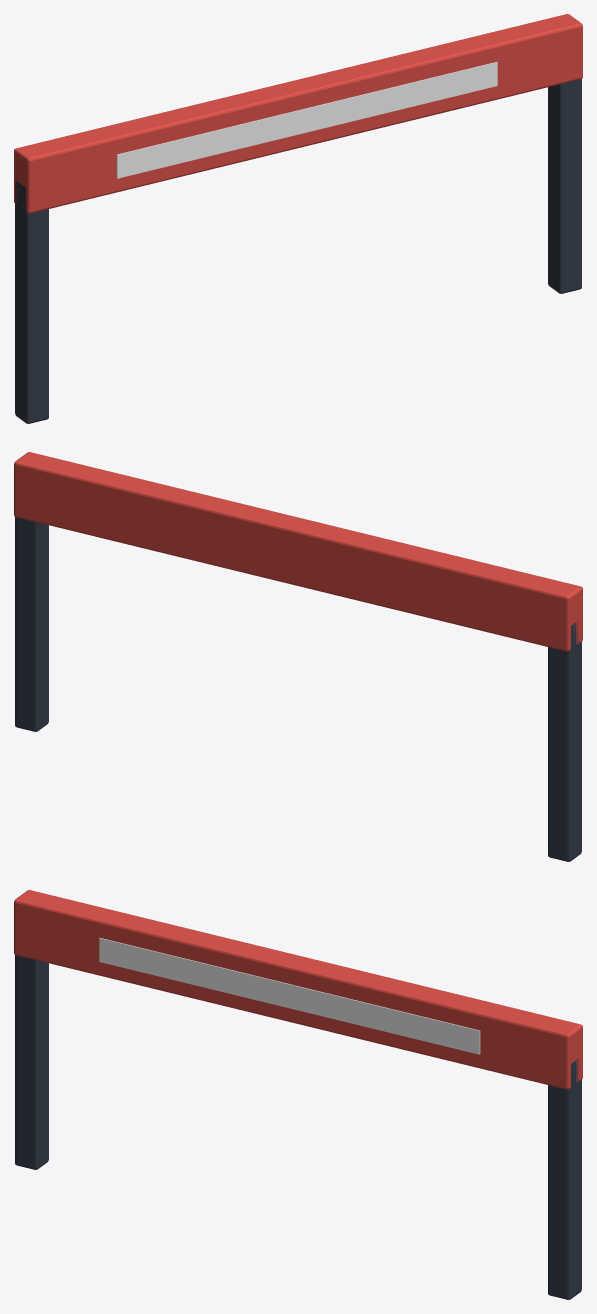
Rendered from Motor_Arch.fbx.
3 renders of one model, top to bottom at view 1: azimuth 30°, elevation 25°; view 2: azimuth 150°, elevation 25°; view 3: azimuth 330°, elevation 25°, orthographic.
Parts seen in each view (by area): view 1: Arch; view 2: Arch; view 3: Arch.
Part boxes in pixels (left/top/right/bottom): Arch: left=14, top=14, right=582, bottom=423; Arch: left=14, top=452, right=582, bottom=861; Arch: left=14, top=890, right=582, bottom=1299.
Bounding box in the file's own units: 14.6 × 6.7 × 0.76.
